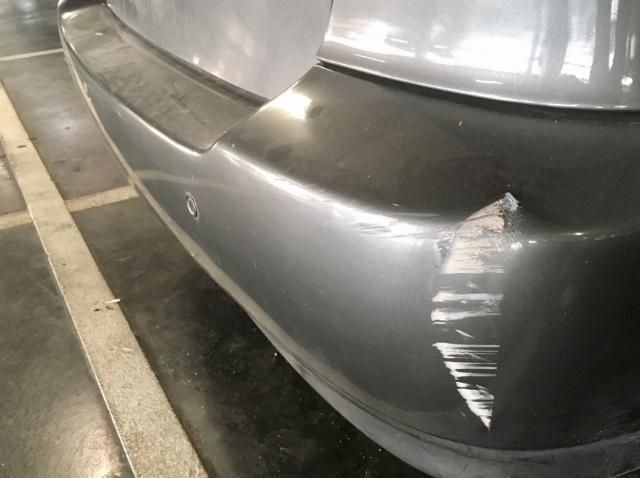Bumper: (289, 108, 586, 457)
